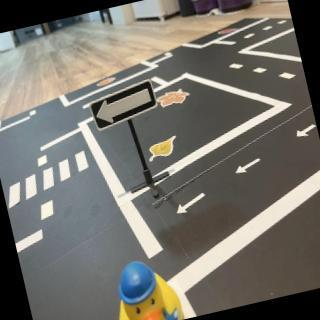duck_specialty: (104, 253, 186, 320)
road_crosswalk: (1, 144, 96, 212)
road_oneway: (171, 184, 216, 221), (228, 150, 267, 183), (288, 114, 320, 147)
sign_oneway_left: (87, 79, 161, 134)
